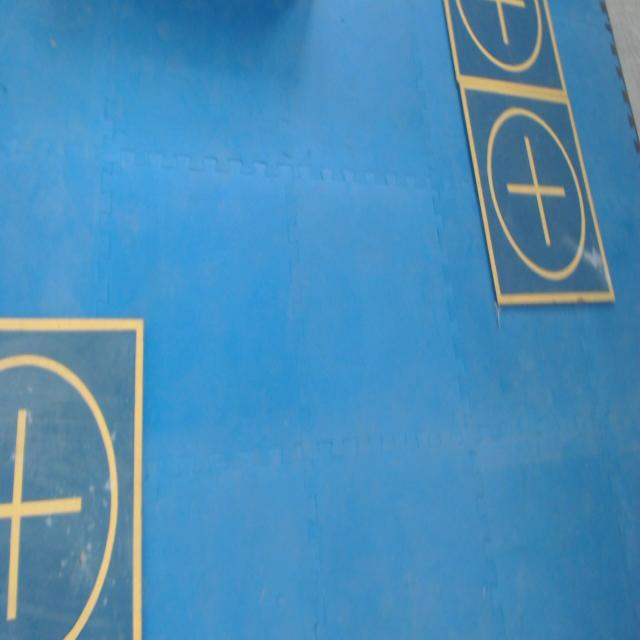base_pouso: (0, 314, 144, 639), (458, 81, 614, 306), (441, 0, 568, 103)
